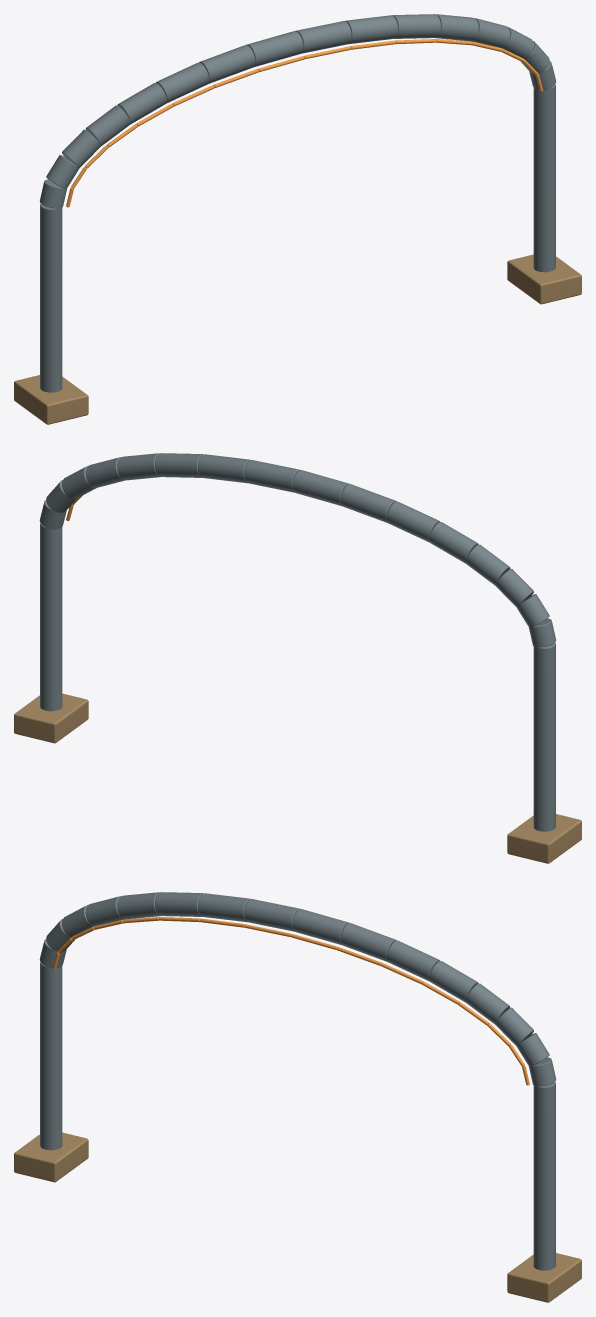
The model's file is service_arch.fbx.
3 views of the same model, one above another, from view 1: azimuth 30°, elevation 25°; view 2: azimuth 150°, elevation 25°; view 3: azimuth 330°, elevation 25° (orthographic).
Visible parts, largest first — view 1: service_arch; view 2: service_arch; view 3: service_arch.
Part boxes in pixels (x1=…): service_arch: x1=14, y1=14, x2=581, y2=424; service_arch: x1=14, y1=453, x2=581, y2=863; service_arch: x1=14, y1=892, x2=581, y2=1302.
Bounding box in the file's own units: 825 × 466 × 90.
